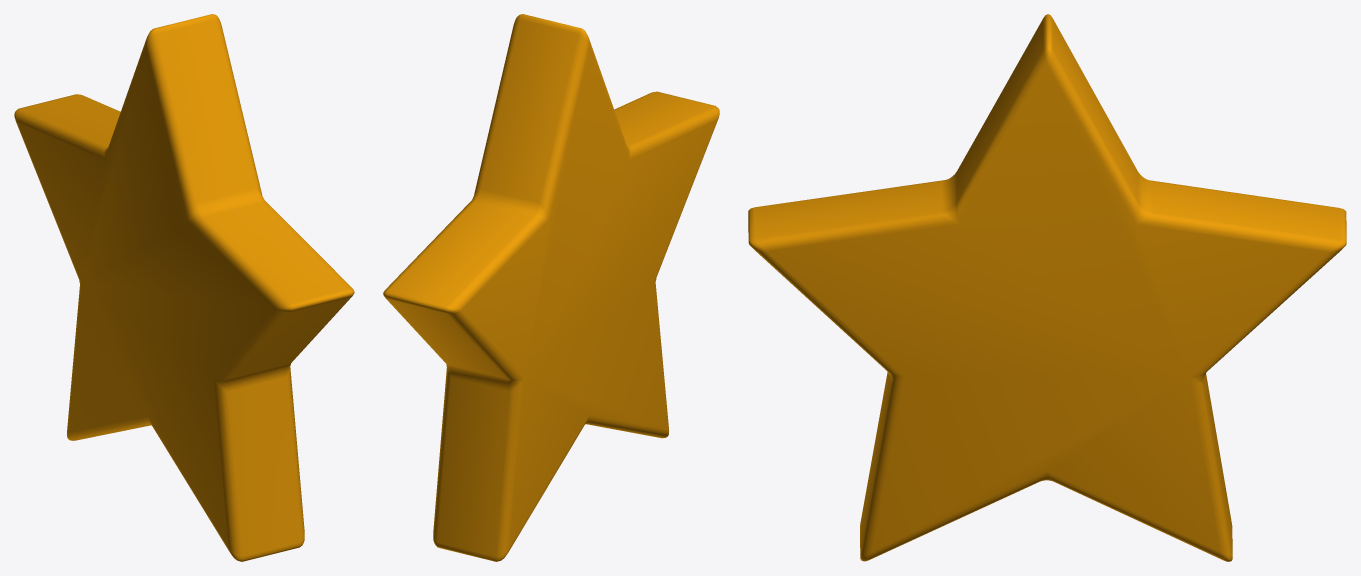
The model's file is STAR.fbx.
The picture shows the model from 3 angles, left to right: view 1: azimuth 30°, elevation 25°; view 2: azimuth 150°, elevation 25°; view 3: azimuth 270°, elevation 25°; orthographic projection. The views are drawn at different scales.
Parts seen in each view (by area): view 1: Circle; view 2: Circle; view 3: Circle.
Boxes of the visible parts, bbox=[...] form: Circle: bbox=[14, 14, 354, 561]; Circle: bbox=[383, 14, 719, 561]; Circle: bbox=[748, 14, 1346, 561].
Size of the model in its own units: 15.35 by 89.34 by 93.76.
